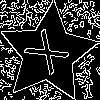X: (23, 28, 78, 83)
